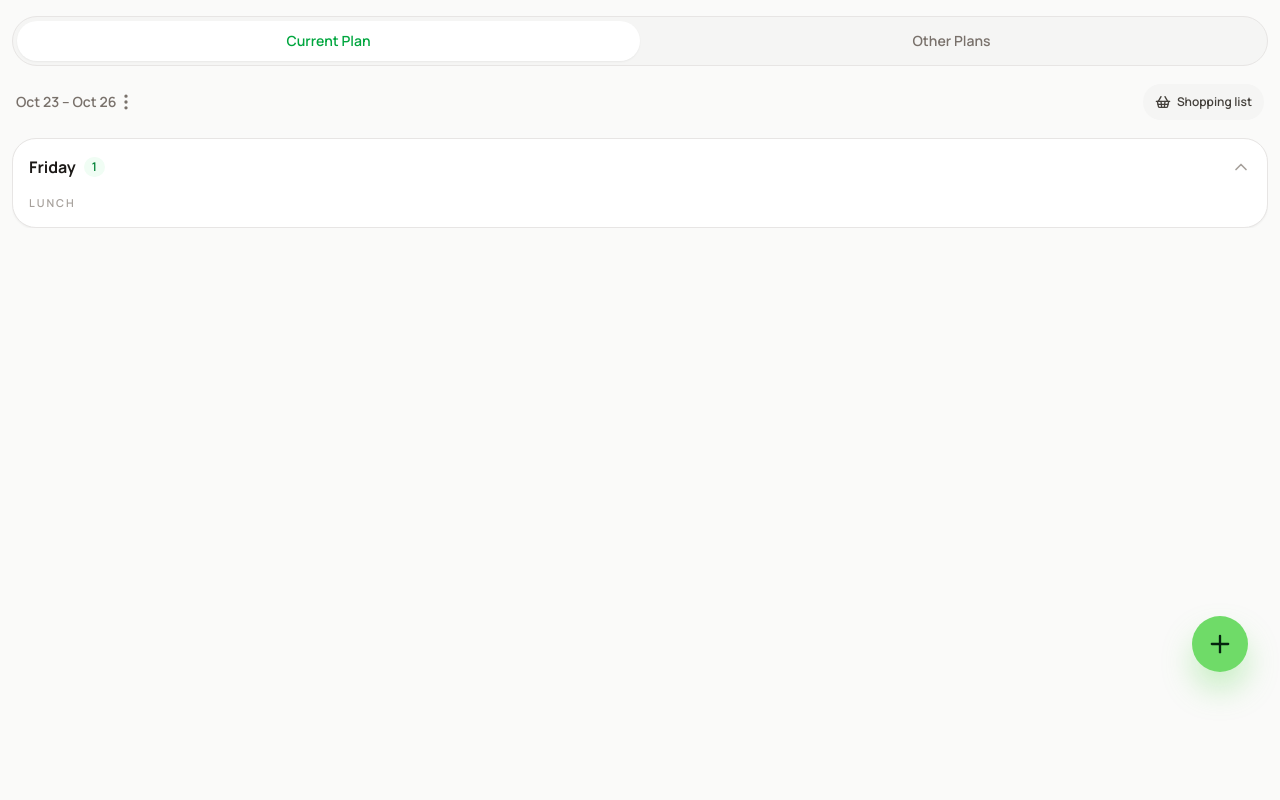
Test: PlanTabPage reminders export visibility and fallback › opens the encoded shortcut directly after setup with the reviewed ingredients
Click the button "Shopping list" at (1203, 102), box [1143, 84, 1264, 120]
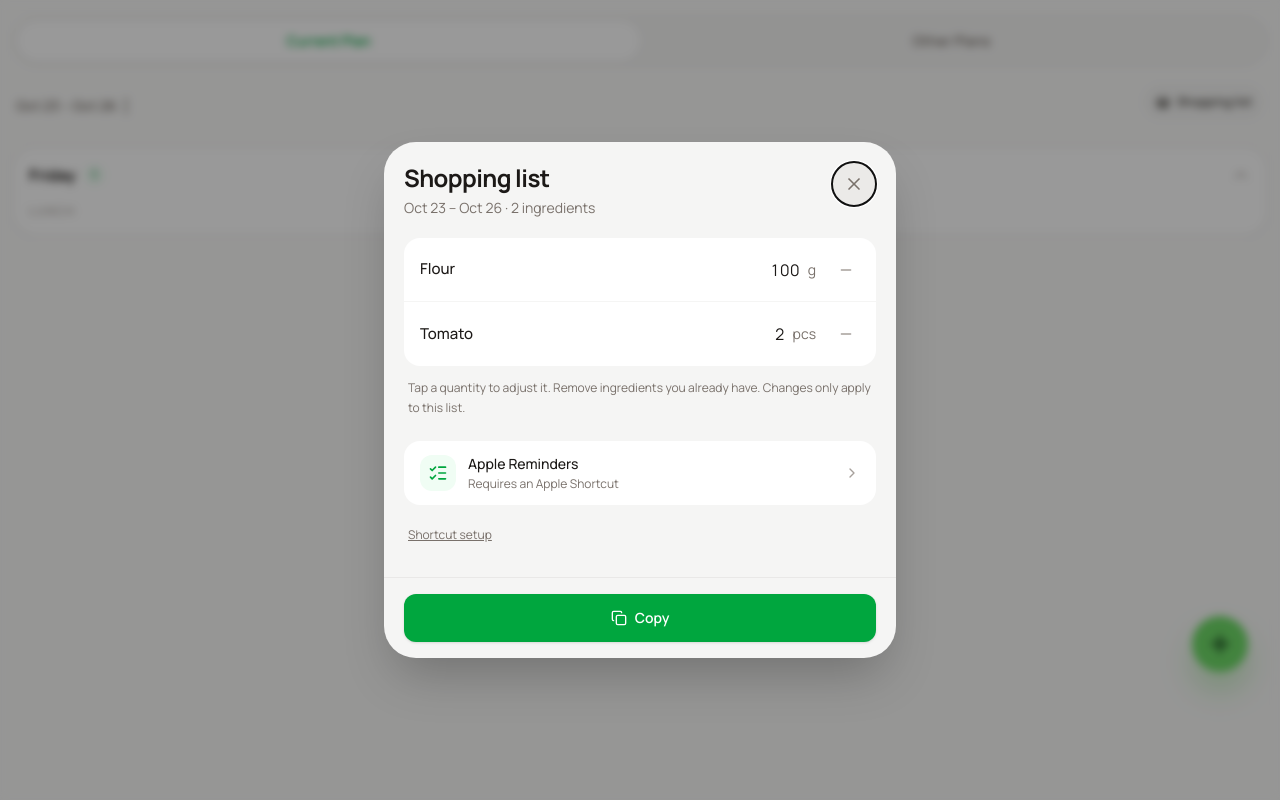
Click the button "Apple Reminders Requires an Apple Shortcut" at (438, 473), box [404, 441, 876, 505]
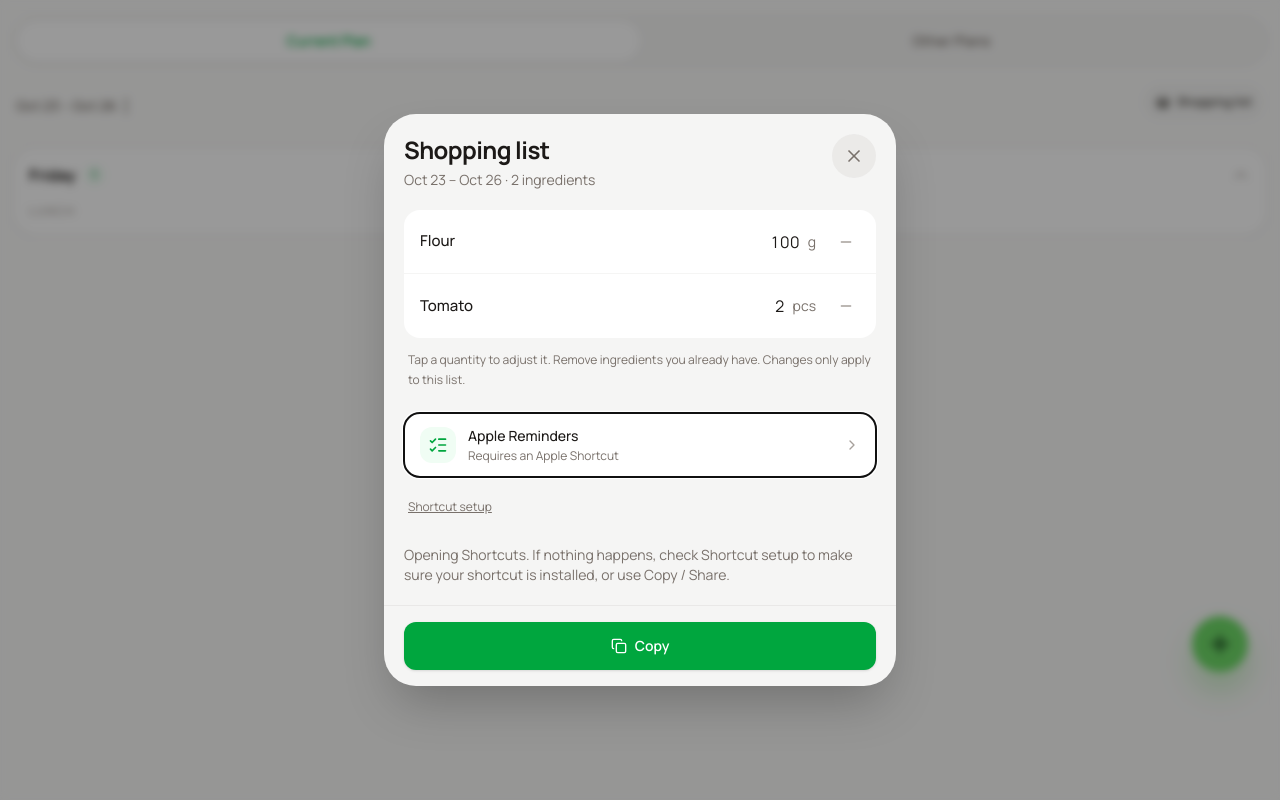
expect the button "Copy" is enabled: met, box [404, 622, 876, 670]
expect the message shows "Opening Shortcuts": met, box [404, 545, 853, 584]
